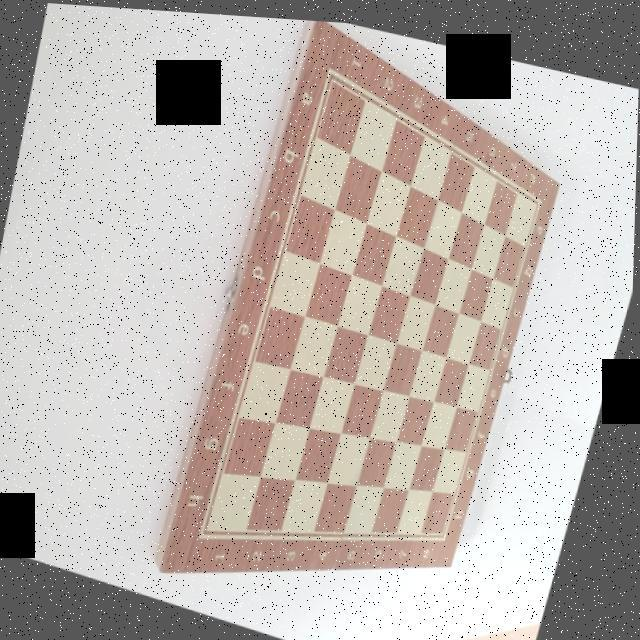chess-table-corners: (317, 60, 343, 96), (201, 524, 230, 554), (528, 184, 550, 216), (444, 522, 464, 548)
